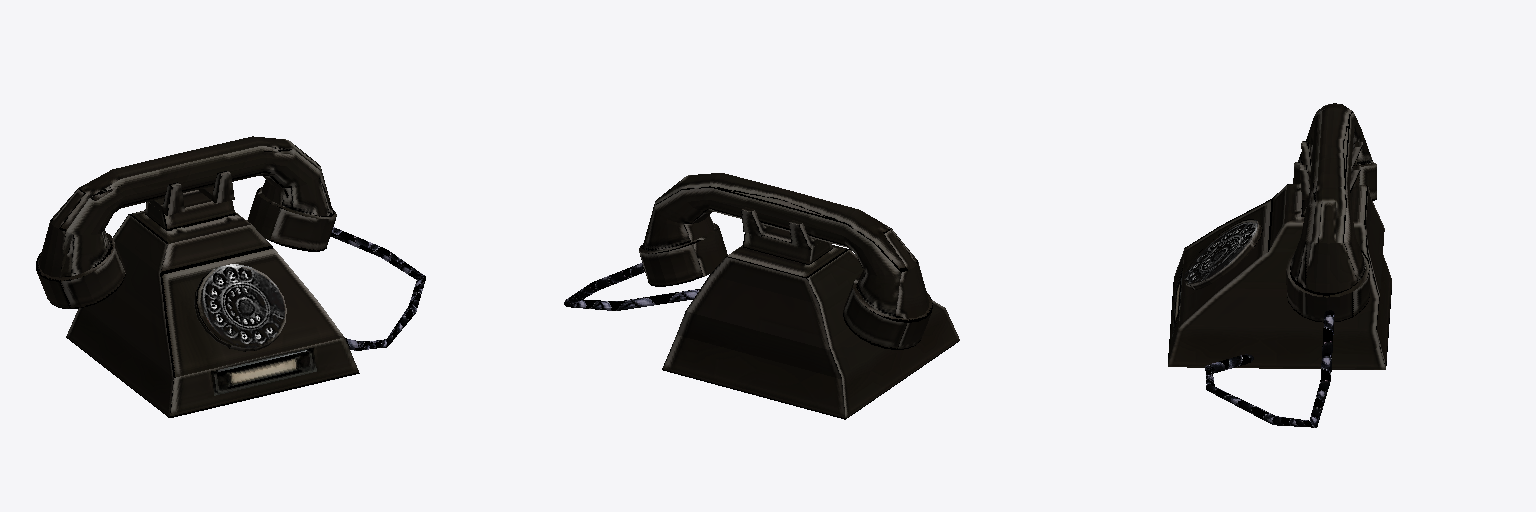
The picture shows the model from 3 angles: view 1: azimuth 30°, elevation 25°; view 2: azimuth 150°, elevation 25°; view 3: azimuth 270°, elevation 25°; orthographic projection.
Visible parts, largest first — view 1: Cylinder01_models/mapobjects/electronics/phone.tga_0_Cylinder01_; view 2: Cylinder01_models/mapobjects/electronics/phone.tga_0_Cylinder01_; view 3: Cylinder01_models/mapobjects/electronics/phone.tga_0_Cylinder01_.
Part boxes in pixels (bbox=[...]): Cylinder01_models/mapobjects/electronics/phone.tga_0_Cylinder01_: bbox=[36, 136, 425, 417]; Cylinder01_models/mapobjects/electronics/phone.tga_0_Cylinder01_: bbox=[564, 173, 959, 419]; Cylinder01_models/mapobjects/electronics/phone.tga_0_Cylinder01_: bbox=[1168, 103, 1391, 427].
Size of the model in its own units: 0.6756 by 0.3246 by 0.3521.
Materials: 1 (1 with a texture image).